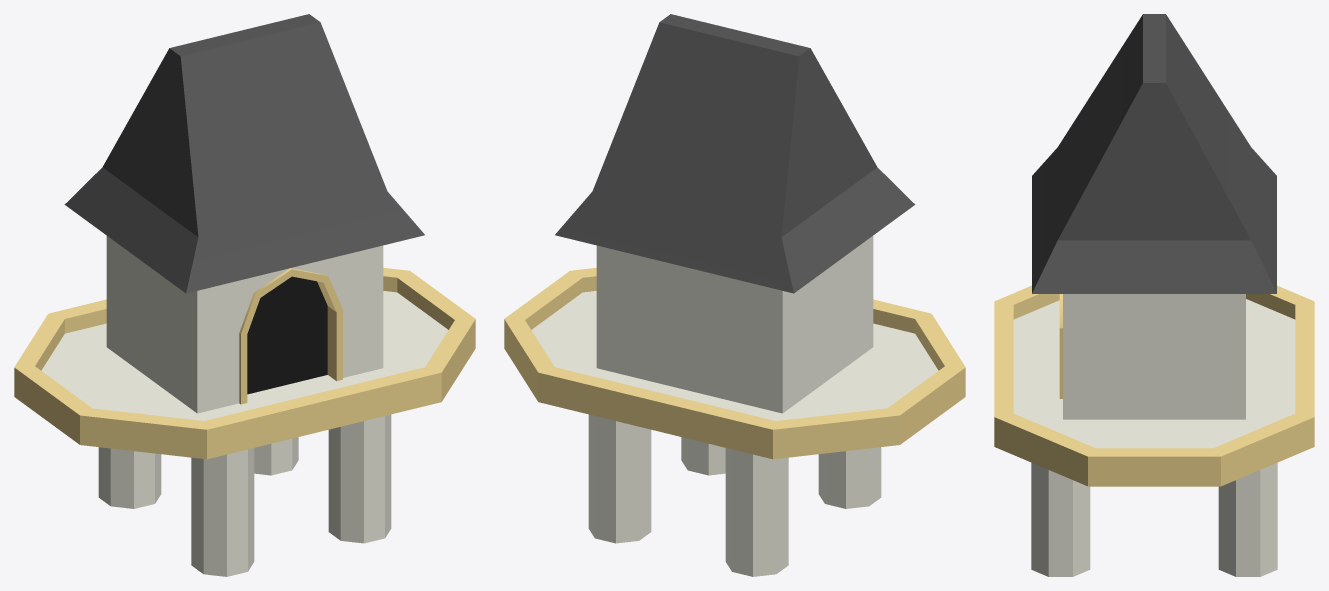
Rendered from Castle_Building_01.fbx.
The picture shows the model from 3 angles, left to right: view 1: azimuth 30°, elevation 25°; view 2: azimuth 150°, elevation 25°; view 3: azimuth 270°, elevation 25°; orthographic projection.
Visible parts, largest first — view 1: Castle_Building_01; view 2: Castle_Building_01; view 3: Castle_Building_01.
Boxes of the visible parts, x1,y1,x2,y2 form: Castle_Building_01: (14, 14, 475, 576); Castle_Building_01: (504, 14, 965, 576); Castle_Building_01: (994, 14, 1314, 576).
Bounding box in the file's own units: 224 × 258 × 155.
